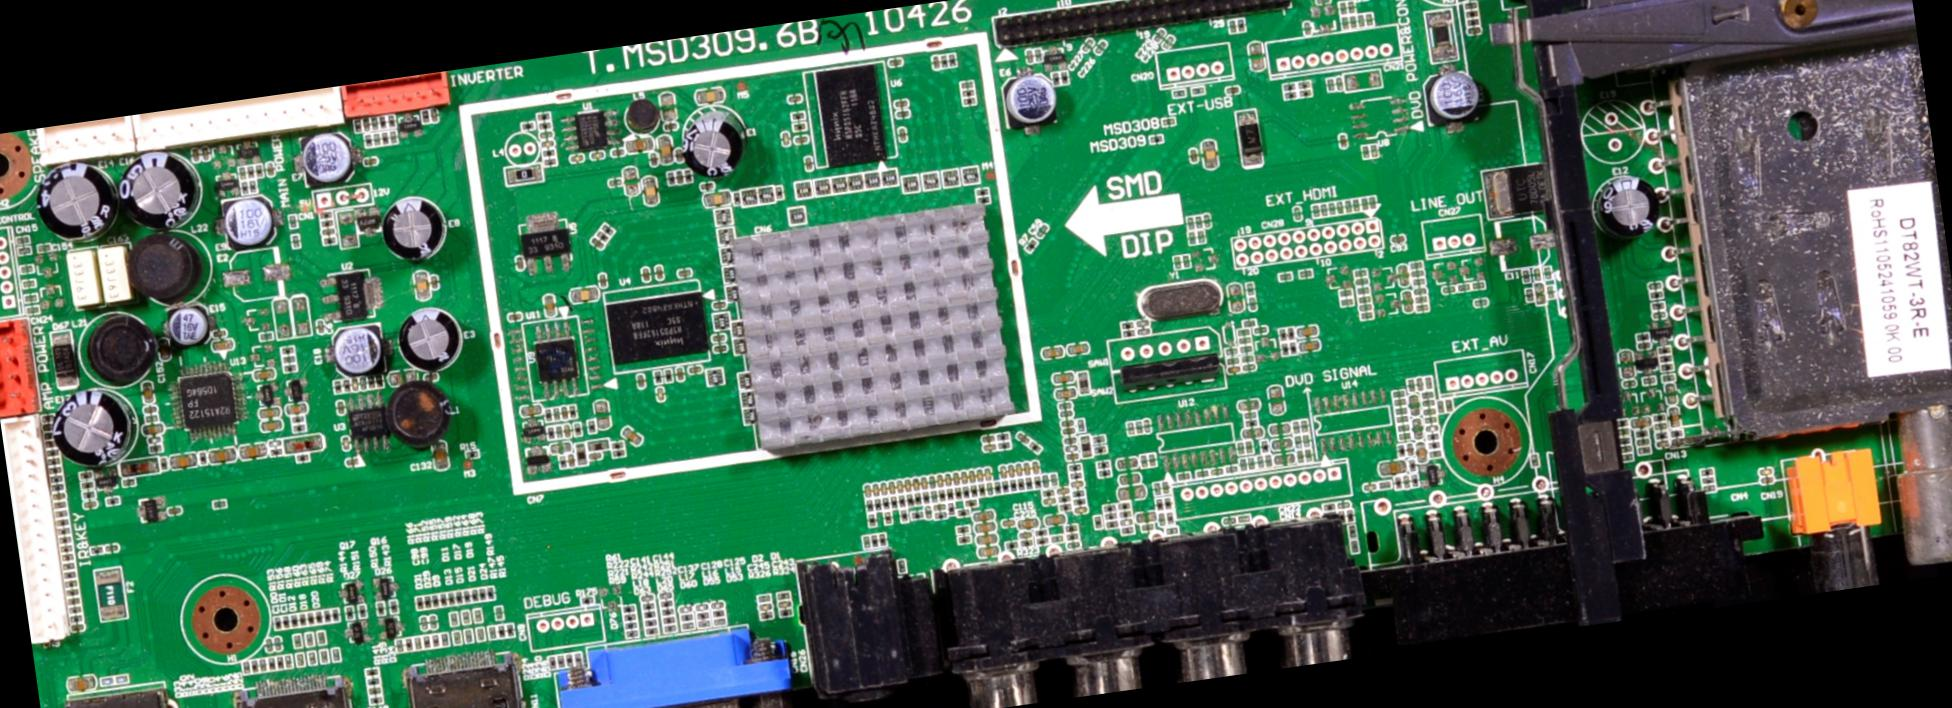Capacitor Jumper: (410, 268, 431, 301), (63, 674, 95, 693), (640, 175, 659, 205), (239, 440, 266, 460), (207, 447, 235, 465), (432, 442, 448, 474), (693, 87, 723, 105), (703, 189, 731, 208), (571, 285, 598, 304), (543, 294, 558, 320), (656, 136, 670, 163), (169, 453, 194, 468), (210, 338, 233, 353), (251, 367, 274, 382), (139, 380, 154, 402), (254, 407, 280, 419), (1053, 384, 1074, 399), (1041, 346, 1062, 360), (976, 545, 997, 559), (284, 402, 306, 414), (1297, 325, 1317, 338), (142, 423, 163, 436), (258, 421, 280, 432), (1066, 345, 1088, 356), (1042, 516, 1064, 528), (803, 156, 815, 172), (426, 613, 438, 630), (1015, 530, 1035, 540), (1053, 375, 1072, 384), (786, 95, 802, 106), (1301, 340, 1317, 351), (931, 474, 942, 490), (975, 511, 992, 521), (974, 524, 993, 533), (264, 636, 274, 653), (418, 615, 428, 632), (654, 264, 665, 279), (1020, 519, 1035, 530), (899, 126, 909, 142), (998, 520, 1015, 530), (273, 636, 283, 652), (693, 602, 710, 612), (888, 57, 901, 68), (781, 131, 789, 148), (861, 483, 870, 500), (976, 536, 993, 545), (895, 98, 910, 108), (596, 274, 606, 289), (639, 594, 654, 603), (898, 108, 911, 118), (870, 483, 880, 496), (940, 473, 950, 487), (929, 56, 939, 70), (588, 152, 603, 161), (640, 268, 649, 282), (1073, 506, 1088, 515), (776, 600, 791, 608), (997, 467, 1007, 479), (1030, 462, 1039, 474), (1042, 496, 1054, 506), (710, 601, 722, 611), (983, 468, 992, 482), (894, 480, 903, 494), (568, 154, 580, 163), (910, 478, 919, 490), (1013, 464, 1022, 477), (678, 605, 691, 613), (966, 469, 974, 483), (903, 479, 910, 493), (757, 603, 771, 611), (917, 477, 925, 489), (951, 473, 959, 485), (1022, 464, 1030, 477), (975, 470, 983, 480), (889, 482, 895, 494), (927, 477, 934, 489), (959, 472, 965, 484), (1058, 488, 1071, 494), (1007, 465, 1013, 477), (1069, 482, 1081, 488), (660, 592, 671, 599), (880, 484, 885, 495)
Connector: (0, 413, 81, 650), (991, 0, 1296, 52), (132, 86, 344, 153), (344, 71, 453, 119), (35, 117, 128, 167), (0, 316, 40, 421)
IC: (603, 279, 710, 375), (803, 58, 896, 168), (519, 315, 588, 402), (1150, 404, 1236, 473), (173, 365, 246, 444), (1312, 387, 1394, 454), (517, 217, 571, 272), (561, 107, 617, 152)
Resistor Jumper: (683, 164, 693, 188), (954, 534, 972, 545), (535, 109, 551, 122), (1280, 81, 1297, 92), (788, 109, 803, 122), (355, 603, 367, 618), (961, 96, 977, 107), (78, 479, 95, 490), (579, 595, 595, 606), (1281, 90, 1298, 100), (778, 608, 795, 618), (280, 345, 294, 357), (1068, 469, 1082, 482), (1098, 464, 1110, 478), (452, 591, 464, 605), (484, 587, 497, 601), (274, 657, 286, 671), (946, 52, 959, 66), (791, 121, 805, 132), (665, 172, 676, 187), (80, 489, 95, 500), (88, 545, 103, 556), (296, 612, 307, 627), (493, 606, 504, 621), (620, 603, 635, 615), (1118, 321, 1134, 331), (911, 491, 921, 508), (476, 586, 486, 602), (954, 525, 970, 535), (757, 611, 773, 621), (427, 596, 439, 608), (320, 235, 334, 246), (1092, 434, 1105, 445), (461, 590, 472, 603), (321, 610, 332, 623), (1163, 499, 1174, 513), (503, 623, 514, 637), (367, 684, 381, 696), (975, 195, 990, 205), (281, 362, 296, 372), (291, 414, 306, 424), (78, 472, 93, 482), (103, 496, 118, 506), (387, 599, 397, 613), (270, 616, 280, 631), (660, 608, 675, 618), (622, 630, 637, 640), (366, 676, 381, 686), (159, 455, 168, 472), (1118, 328, 1134, 337), (367, 697, 383, 706), (543, 157, 555, 168), (149, 444, 162, 455), (566, 407, 578, 419), (246, 180, 256, 194), (974, 187, 987, 197), (291, 423, 305, 433), (295, 454, 309, 464), (1067, 463, 1081, 473), (888, 496, 898, 510), (312, 611, 322, 625), (1102, 503, 1115, 513), (1063, 524, 1077, 534), (421, 637, 431, 651), (640, 611, 654, 621), (420, 111, 429, 124), (543, 407, 551, 422), (871, 499, 880, 514), (1039, 489, 1054, 498), (289, 613, 298, 628), (305, 612, 314, 627), (876, 533, 885, 547), (1114, 503, 1129, 511), (364, 667, 378, 676), (386, 114, 395, 129), (354, 119, 362, 134), (538, 119, 550, 129), (1297, 80, 1310, 90), (661, 370, 671, 382), (195, 453, 205, 465), (610, 440, 622, 450), (863, 499, 873, 511), (444, 592, 454, 605), (1096, 460, 1112, 468), (905, 495, 913, 511), (519, 122, 533, 131), (254, 163, 263, 177), (239, 183, 248, 197), (961, 88, 975, 97), (319, 219, 332, 228), (1285, 327, 1293, 341), (558, 455, 566, 469), (346, 605, 355, 618), (281, 616, 290, 630), (641, 602, 655, 611), (403, 638, 412, 652), (651, 370, 661, 381), (1093, 444, 1104, 454), (380, 132, 387, 147), (543, 149, 555, 158), (270, 448, 283, 457), (571, 423, 580, 436), (466, 449, 478, 458), (1006, 479, 1015, 491), (866, 514, 875, 526), (330, 608, 339, 621), (376, 603, 385, 616), (1035, 530, 1047, 539), (1005, 541, 1017, 550), (1035, 538, 1047, 546), (622, 613, 635, 622), (364, 133, 372, 146), (937, 55, 946, 67), (920, 491, 927, 505), (956, 509, 970, 516), (659, 600, 672, 607), (498, 625, 505, 638), (268, 658, 275, 672), (566, 654, 574, 668), (378, 114, 386, 128), (585, 421, 595, 431), (1286, 343, 1296, 353), (319, 212, 330, 220), (976, 484, 985, 495), (1031, 477, 1039, 488), (1016, 480, 1025, 491), (883, 511, 891, 523), (1073, 496, 1084, 505), (625, 622, 636, 631), (1280, 343, 1287, 356), (422, 595, 428, 610), (439, 594, 447, 606), (416, 596, 422, 611), (1166, 513, 1174, 525), (1020, 540, 1032, 547), (545, 428, 554, 438), (935, 491, 944, 501), (961, 489, 970, 499), (906, 496, 913, 510), (1279, 328, 1286, 340), (965, 499, 976, 506), (1058, 496, 1069, 504), (1157, 500, 1164, 511), (246, 164, 253, 177), (880, 496, 886, 509), (549, 657, 555, 669), (929, 491, 936, 501), (471, 591, 478, 601), (1298, 91, 1310, 97), (612, 450, 624, 457), (251, 662, 258, 673), (969, 487, 976, 495), (896, 498, 904, 506), (1068, 534, 1077, 541), (949, 488, 954, 500), (954, 488, 960, 498), (1025, 479, 1031, 489), (993, 484, 1000, 494), (1002, 484, 1008, 494), (871, 535, 876, 547), (1073, 491, 1084, 496), (1061, 504, 1069, 509)
Transistor: (523, 447, 551, 482), (518, 417, 544, 445)
iC: (322, 266, 383, 326), (349, 393, 396, 458)
